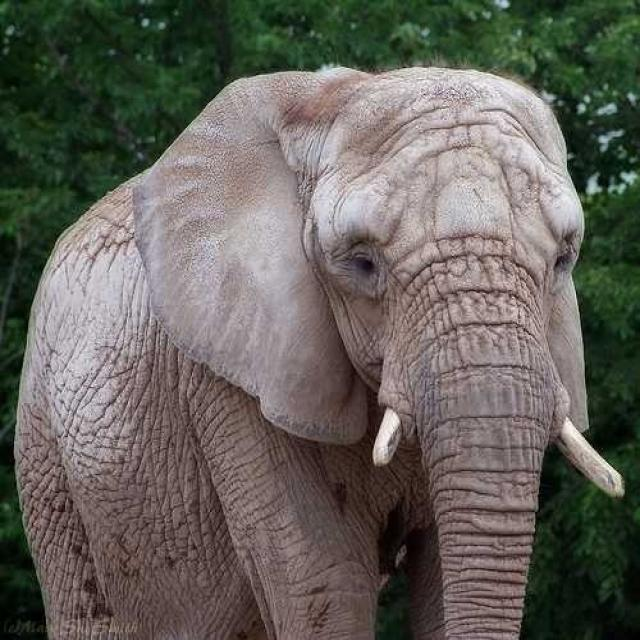Elephant: (13, 61, 626, 639)
